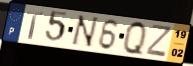5: (44, 10, 70, 46)
6: (97, 19, 120, 52)
N: (69, 14, 100, 49)
Q: (122, 20, 148, 58)
T: (27, 9, 45, 41)
Z: (145, 24, 174, 60)
